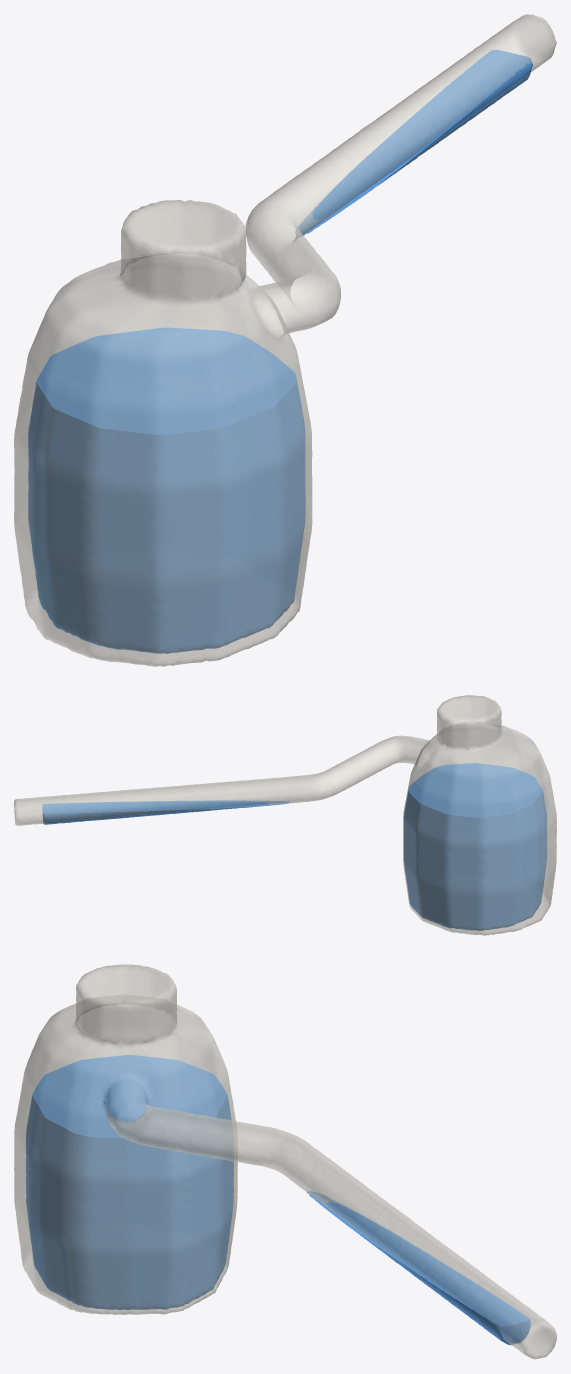
The model's file is washer_fluid_reservoir.glb.
3 views of the same model, one above another, from view 1: azimuth 30°, elevation 25°; view 2: azimuth 150°, elevation 25°; view 3: azimuth 270°, elevation 25° (orthographic). The views are drawn at different scales.
Parts seen in each view (by area): view 1: reservoir, reservoir_fluid; view 2: reservoir, reservoir_fluid; view 3: reservoir, reservoir_fluid.
Part boxes in pixels (box(x1,y1,x2,y2)): reservoir: box(14, 14, 556, 666); reservoir_fluid: box(28, 50, 532, 653); reservoir: box(14, 695, 556, 935); reservoir_fluid: box(42, 763, 546, 930); reservoir: box(14, 964, 556, 1359); reservoir_fluid: box(26, 1055, 530, 1345).
Size of the model in its own units: 0.5054 by 0.2382 by 0.3919.
